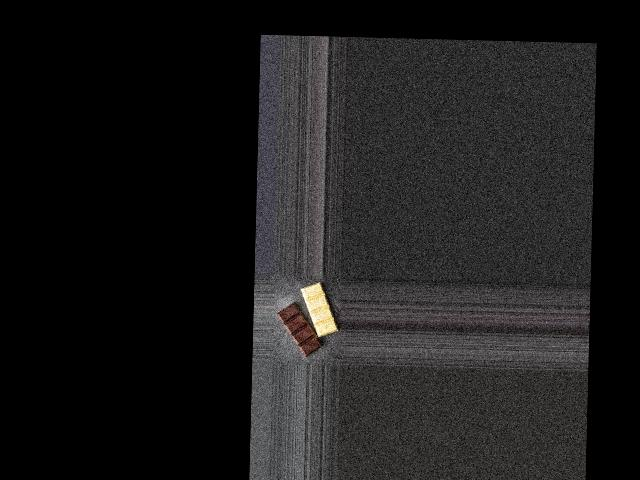chocolate: (277, 277, 338, 357)
